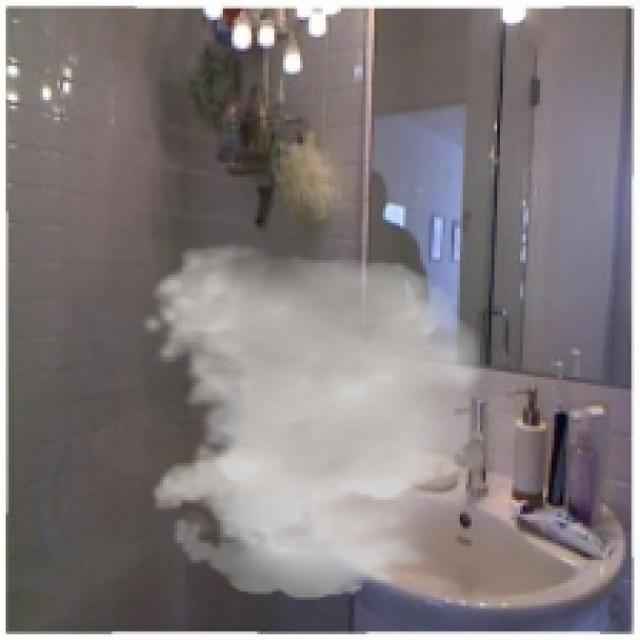smoke: (137, 243, 537, 600)
